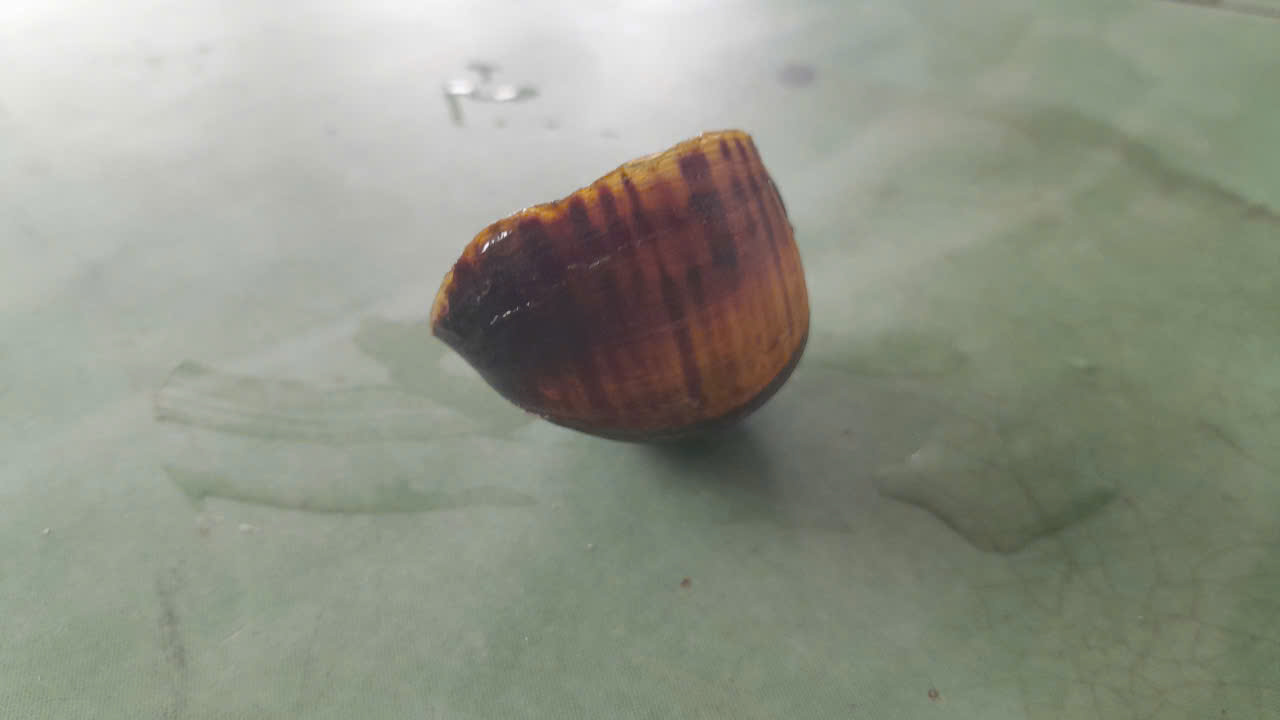oc_buou_vang: (432, 138, 824, 457)
